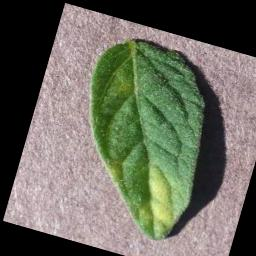Leaf_Mold: (118, 157, 195, 244)
